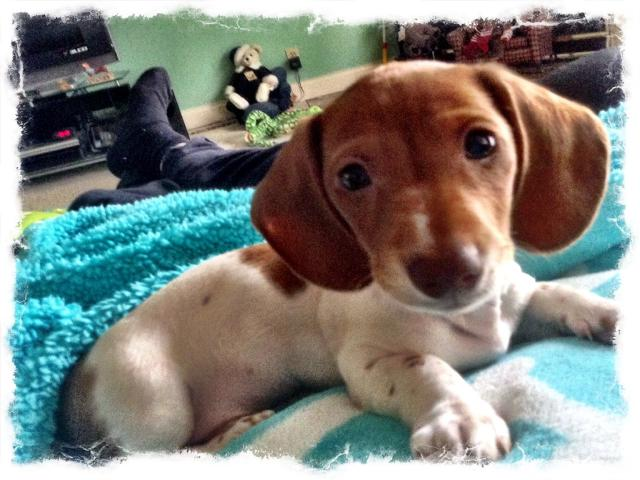Dog: (58, 58, 618, 467)
